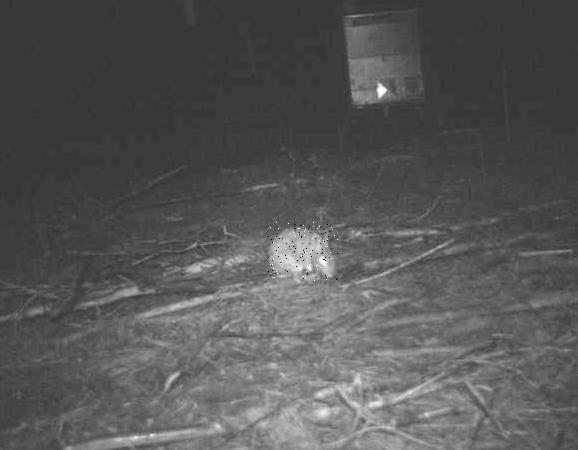Rabbit: (268, 223, 338, 283)
